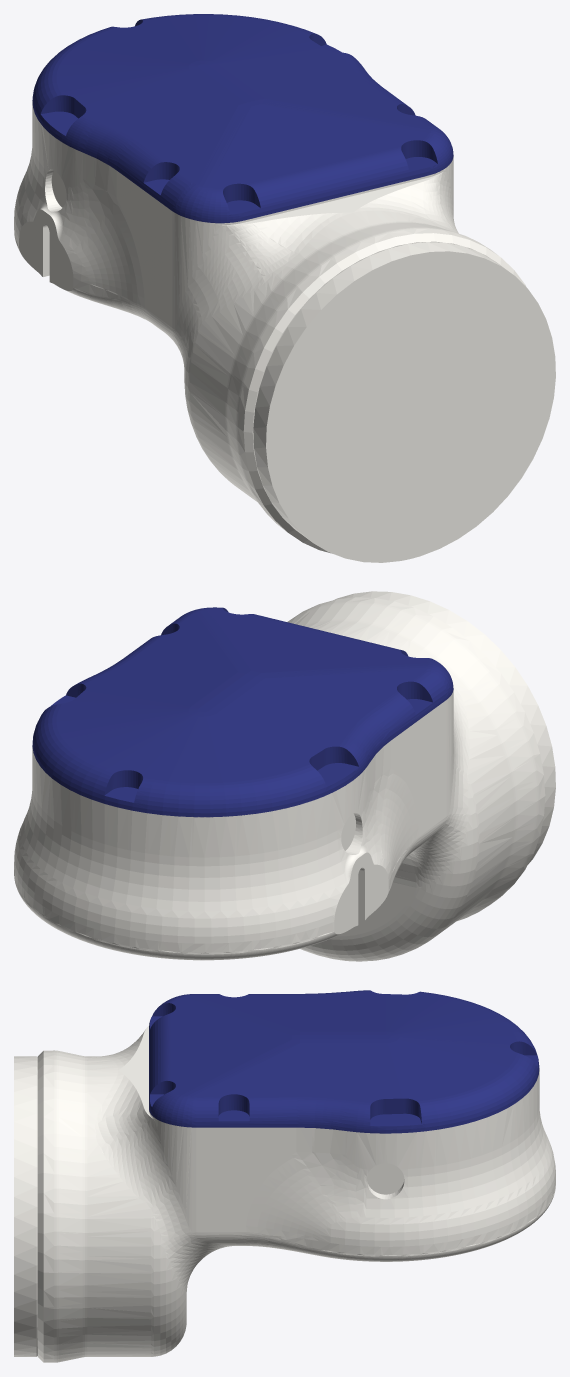
3 renders of one model, top to bottom at view 1: azimuth 30°, elevation 25°; view 2: azimuth 150°, elevation 25°; view 3: azimuth 270°, elevation 25°, orthographic. The views are drawn at different scales.
Visible parts, largest first — view 1: Link_L; view 2: Link_L; view 3: Link_L.
Boxes of the visible parts, left/top/right/bottom form: Link_L: left=14, top=14, right=555, bottom=562; Link_L: left=14, top=591, right=555, bottom=961; Link_L: left=14, top=990, right=555, bottom=1362.
Size of the model in its own units: 0.141 by 0.229 by 0.145.
1 material, 1 textured.
